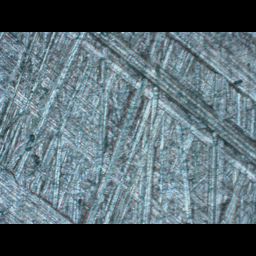d: (66, 31, 255, 189), (0, 164, 79, 223)
